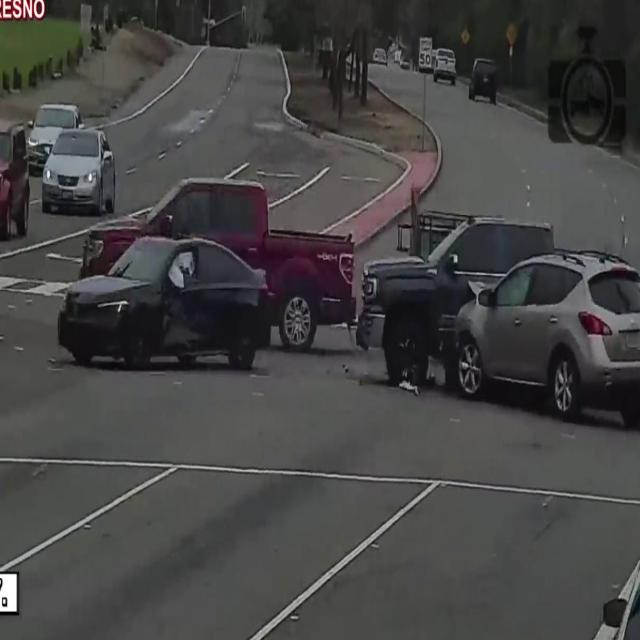accident: (352, 181, 640, 435), (53, 211, 279, 401)
